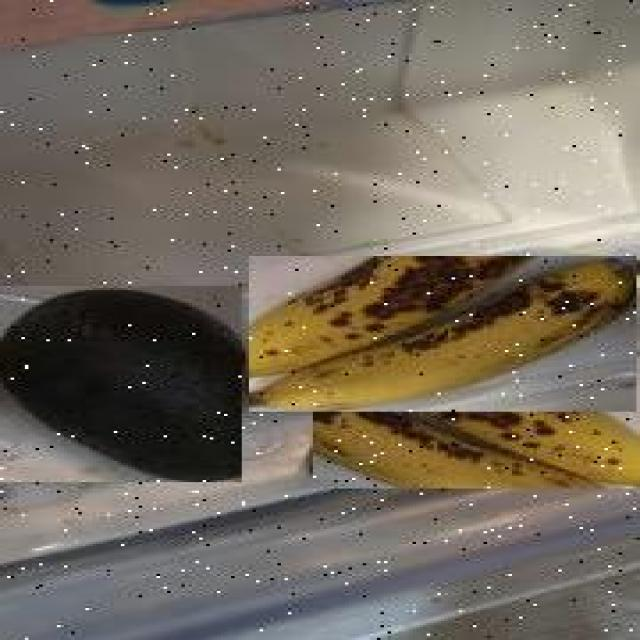avocado: (0, 286, 242, 482)
banana: (313, 288, 640, 489), (249, 256, 636, 412)
